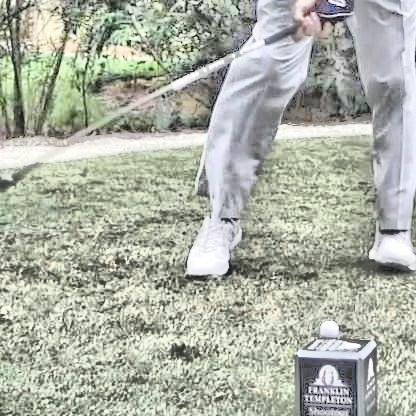golfball: (314, 315, 339, 337)
